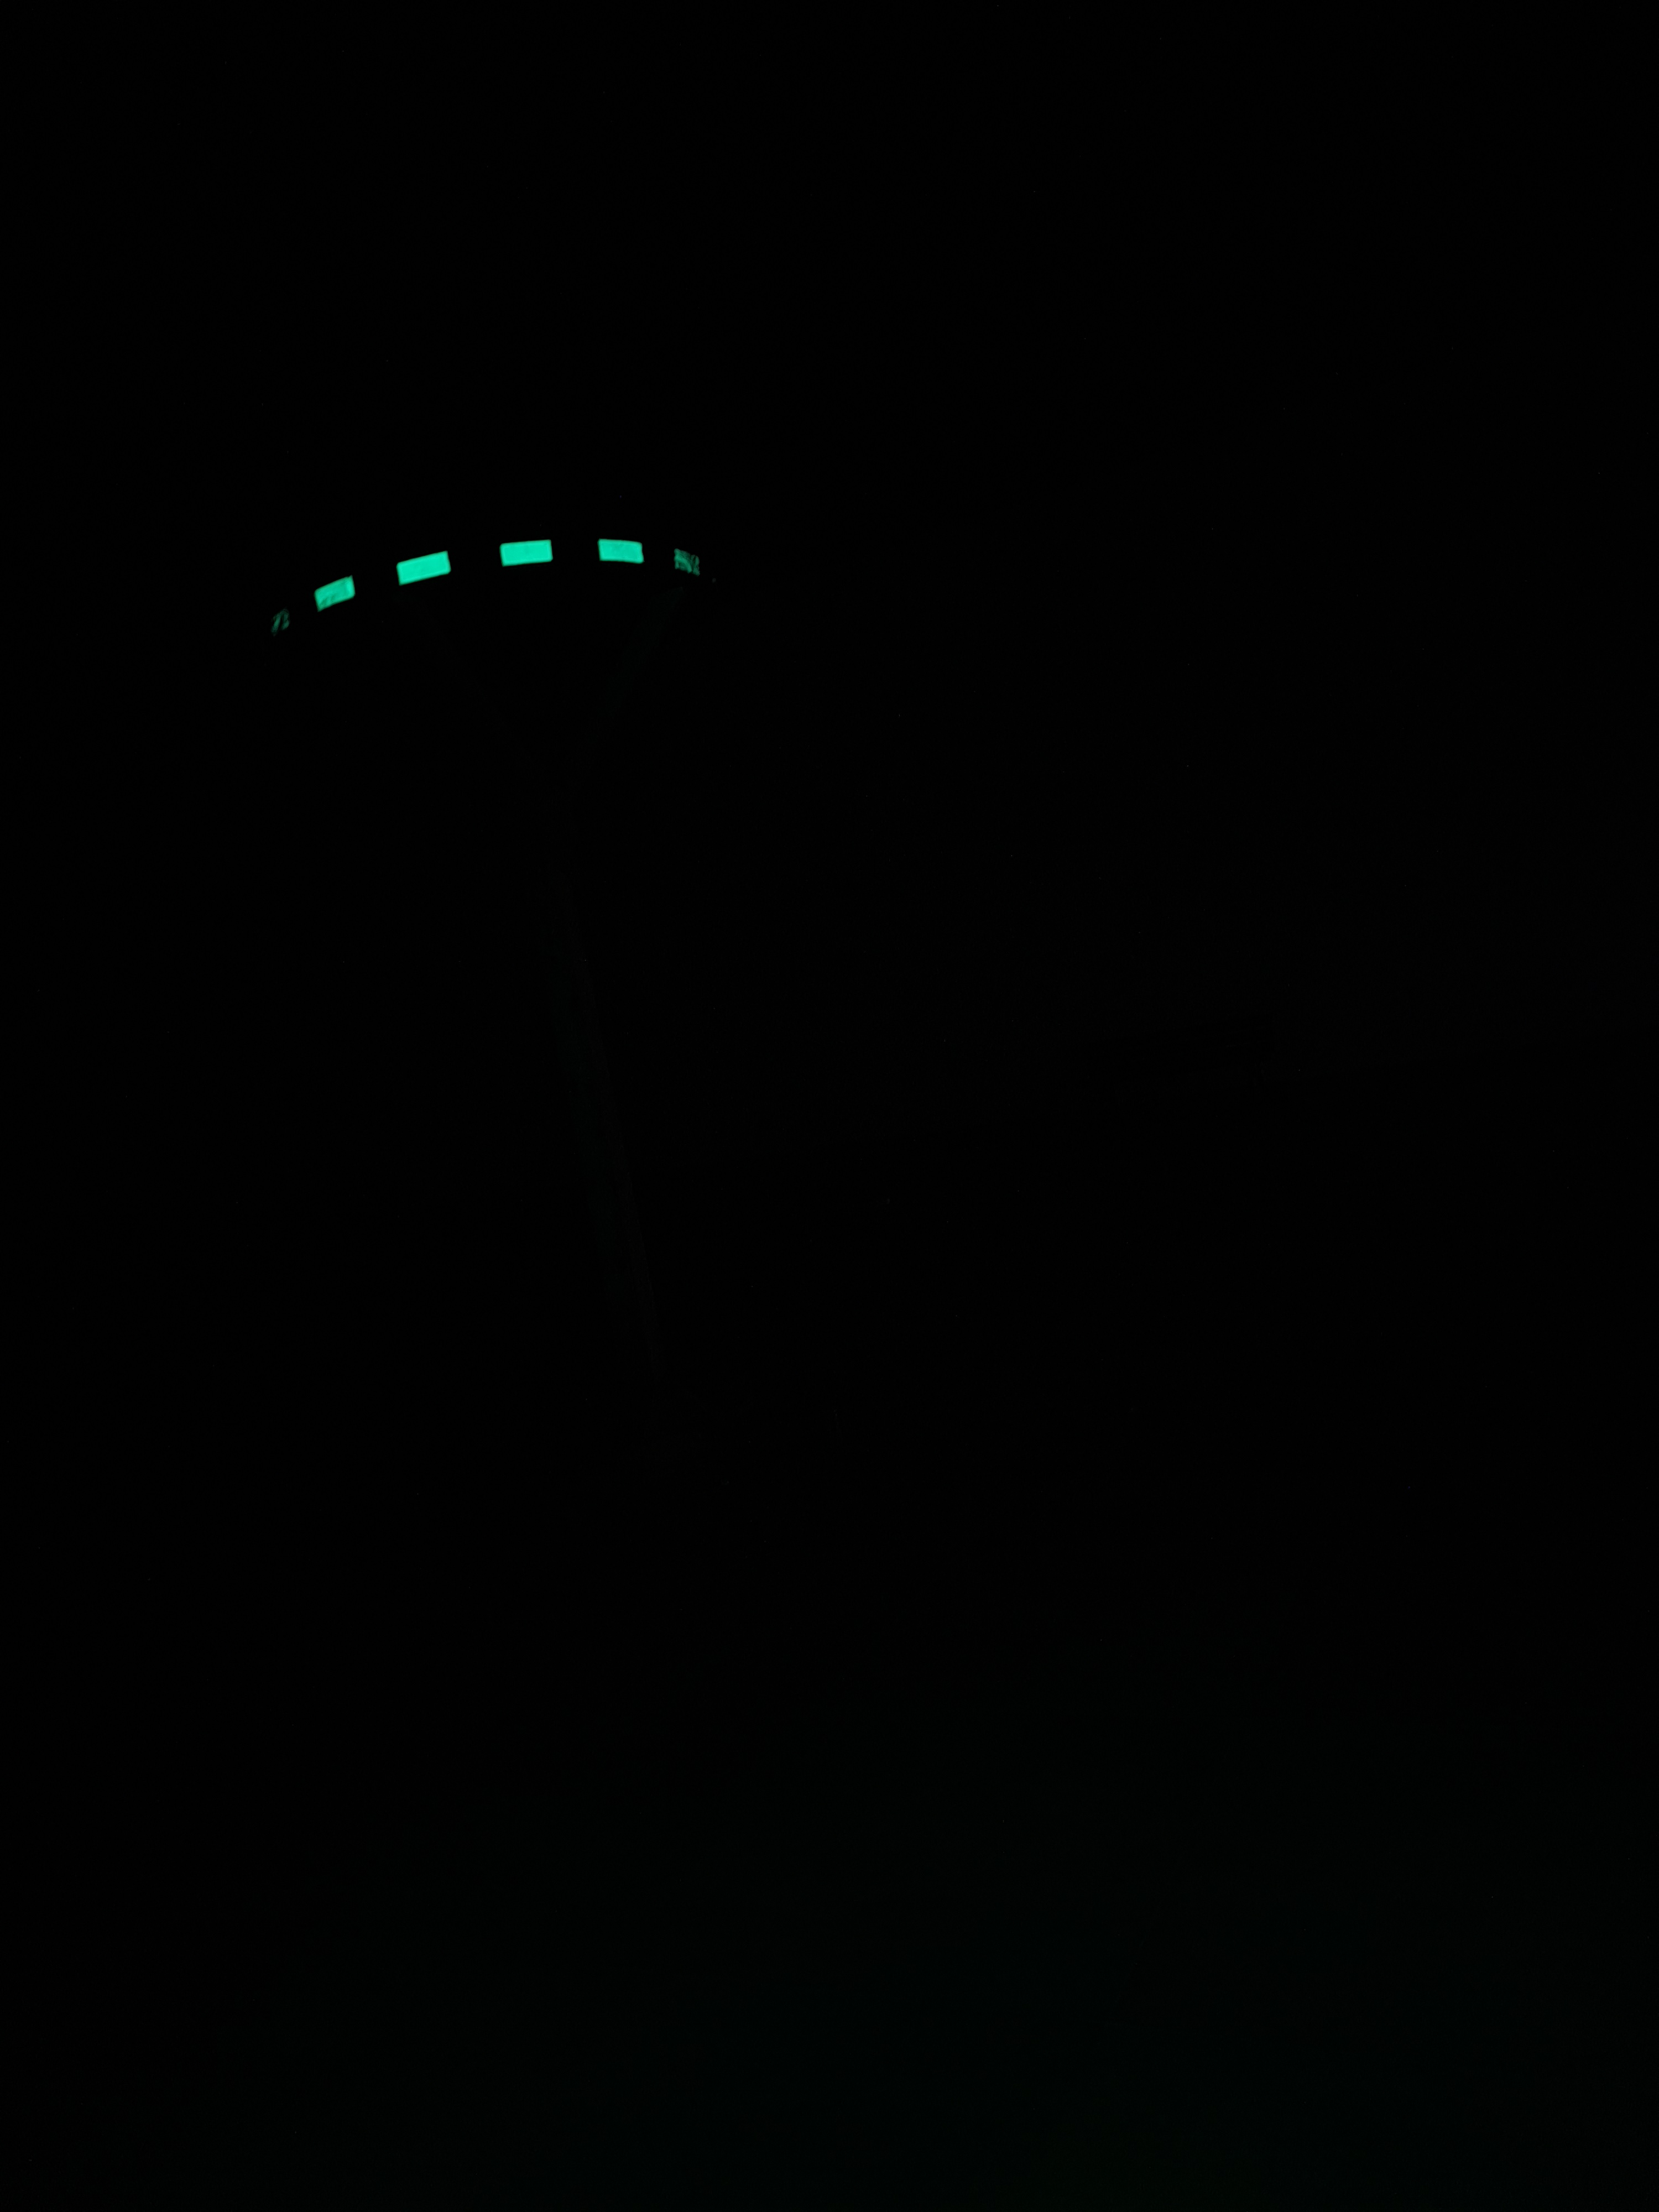hoop: (260, 533, 706, 631)
